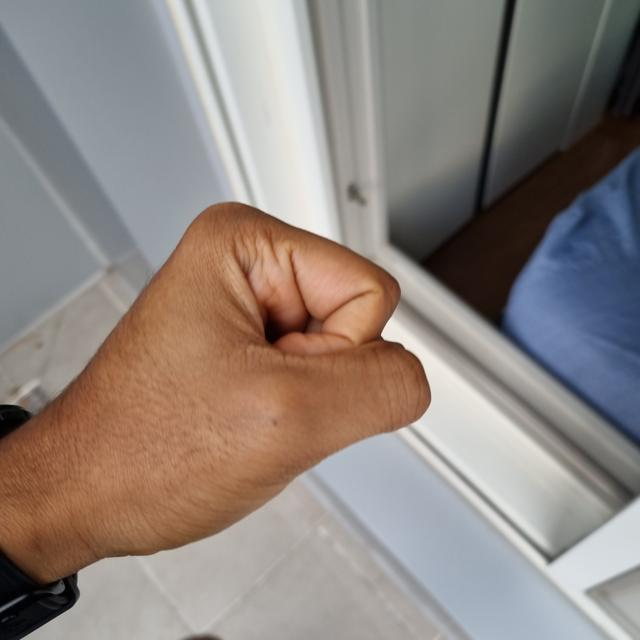Rock: (0, 204, 432, 570)
